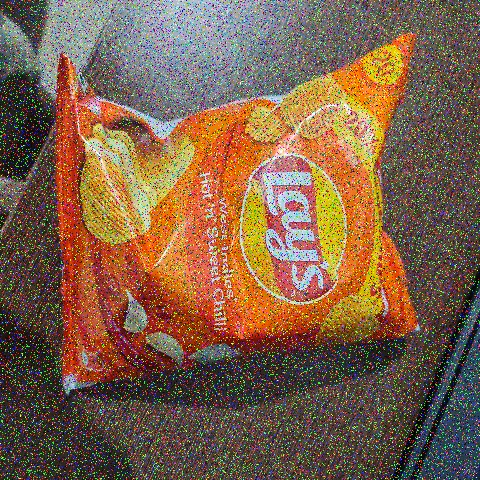lays_orange_pack: (42, 46, 426, 394)
